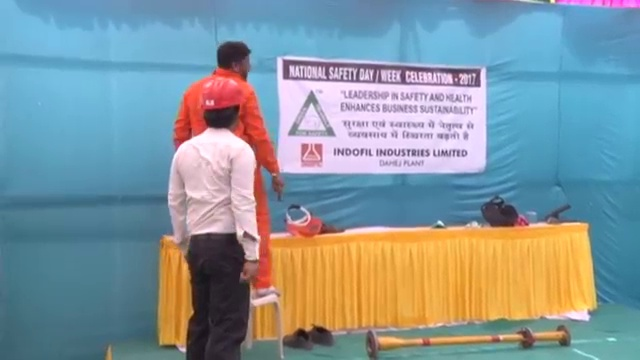helmet: (200, 77, 243, 111)
helmet_off: (214, 40, 253, 79)
helmet_on: (199, 77, 244, 134)
person: (178, 39, 293, 295), (165, 75, 258, 360)
